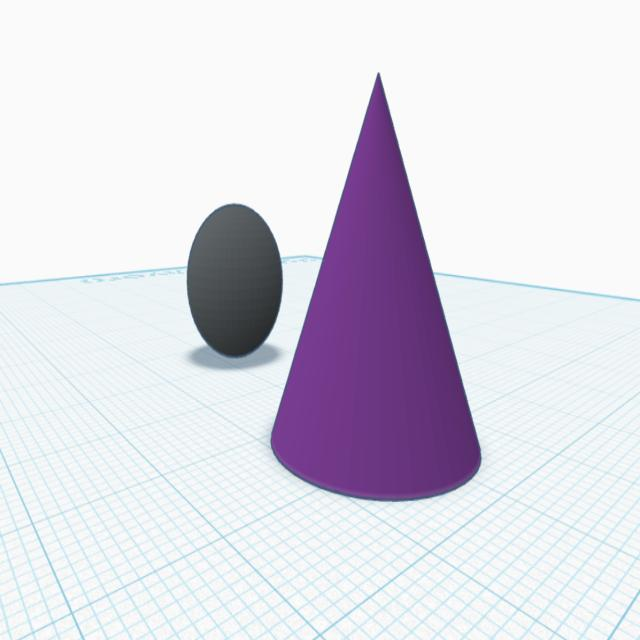cone: (268, 66, 486, 512)
sphere: (183, 197, 285, 362)
